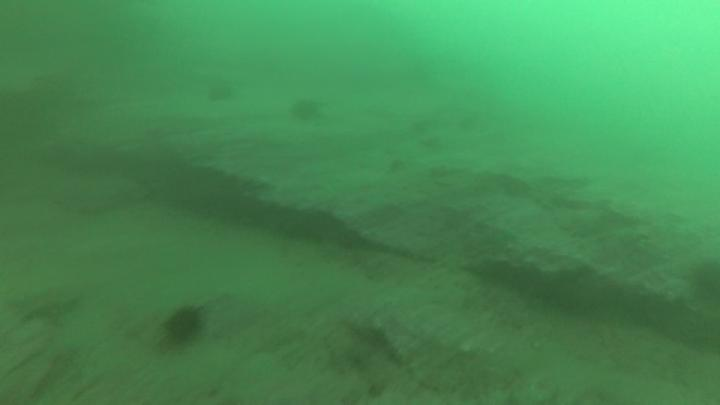echinus: (160, 300, 208, 345), (687, 257, 720, 306), (288, 96, 324, 128), (203, 79, 239, 106)
